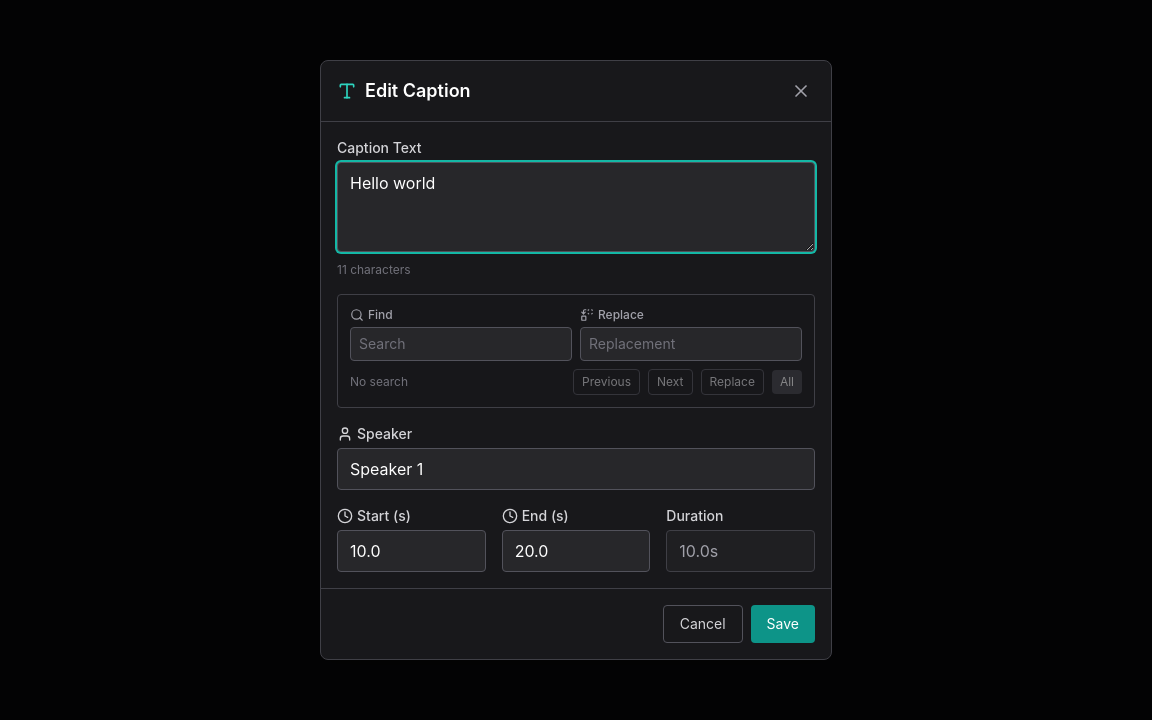
Test case: CaptionEditor › Time Editing › shows validation error when end time is before start time
The width and height of the screenshot is (1152, 720).
Replace the text in the number field labelled "End (s)" with "5" at {"x": 576, "y": 551}, box left=502, top=530, right=650, bottom=572
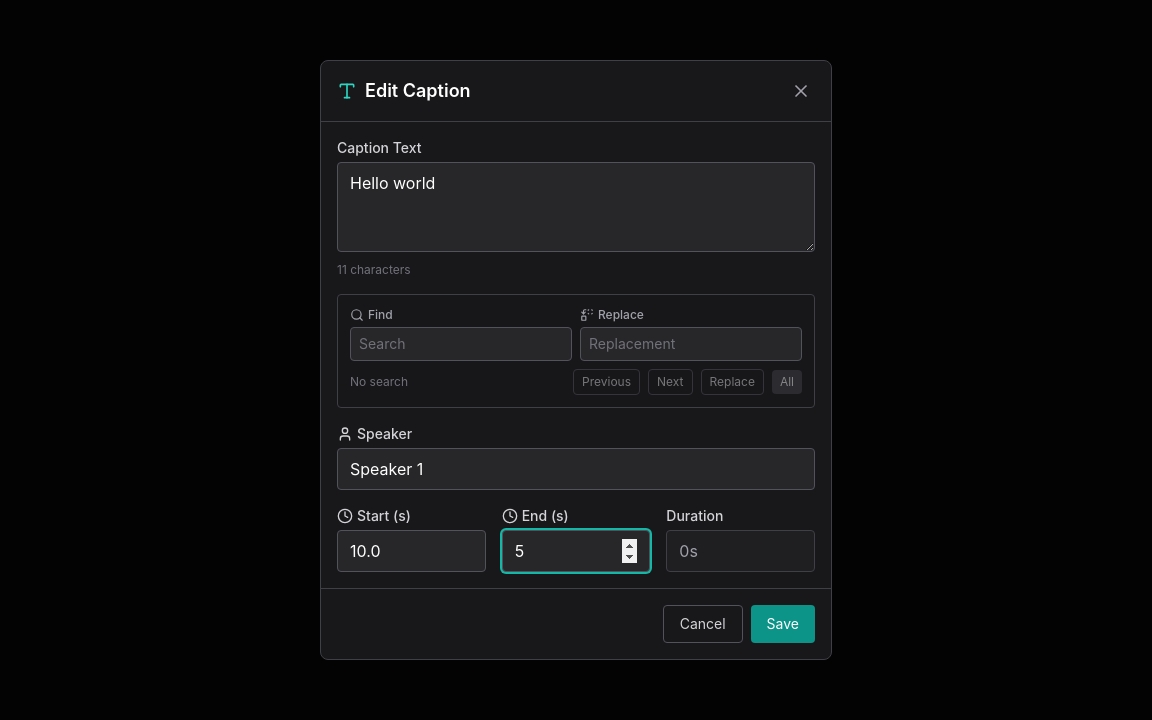
Try to save
Click the button "Save".
click(783, 624)  # box left=751, top=605, right=815, bottom=643
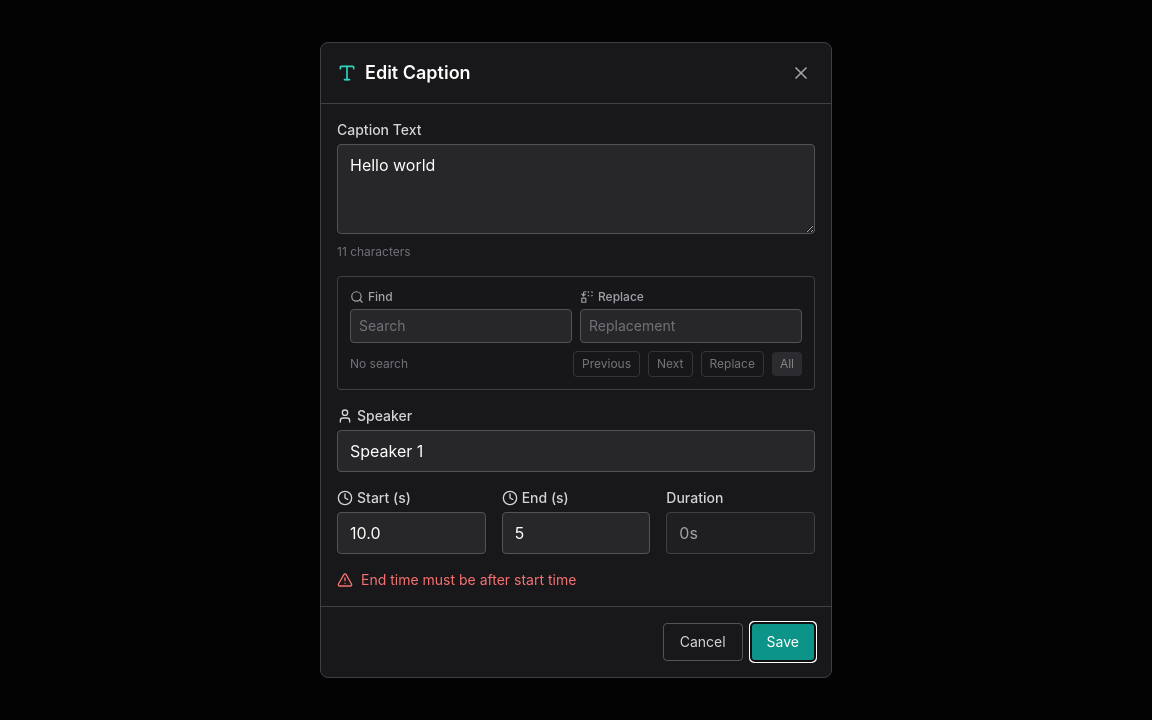
expect the text "End time must be after start time" is shown: met, box left=337, top=571, right=576, bottom=588
